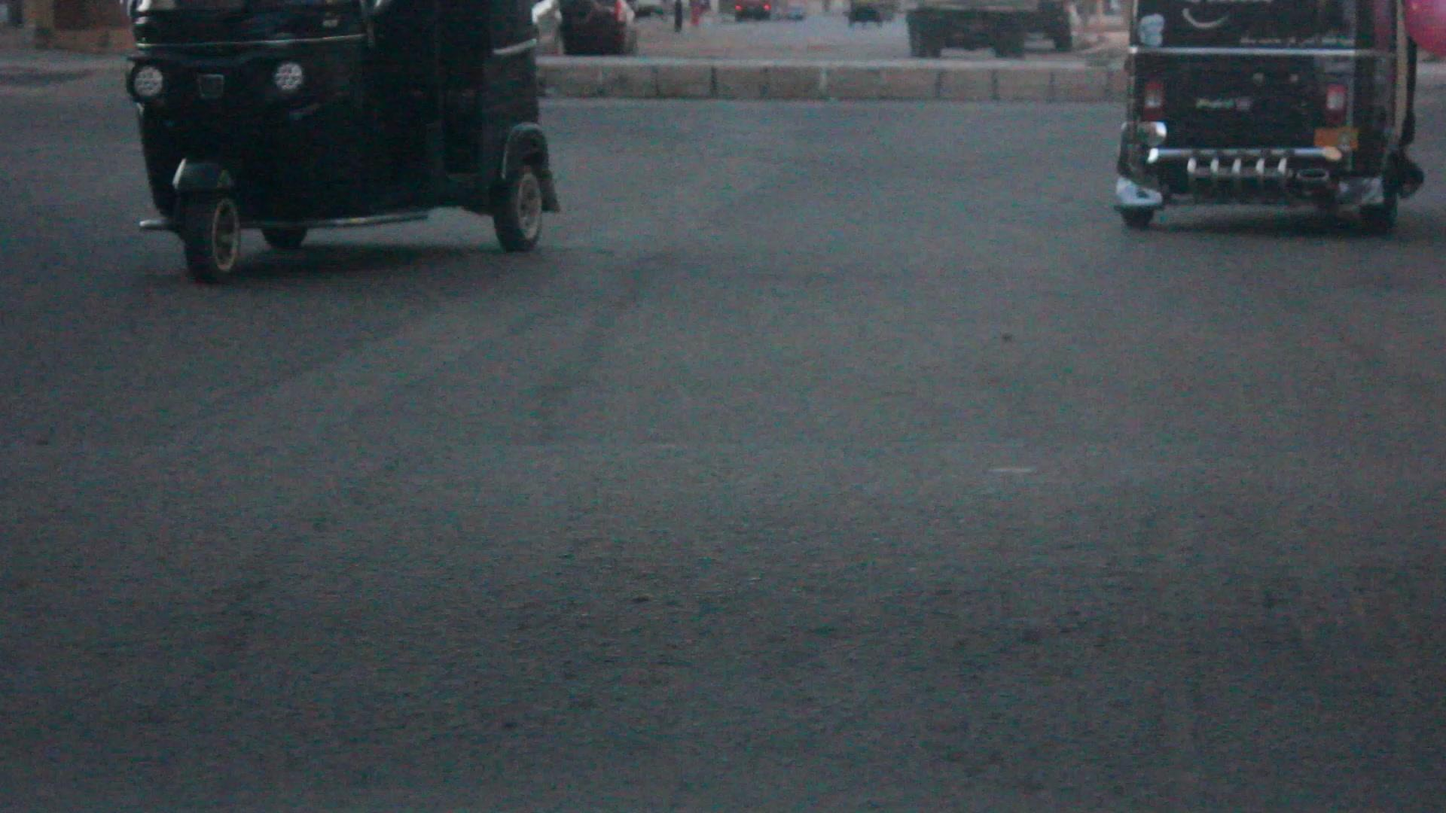Bump: (4, 454, 1446, 783)
